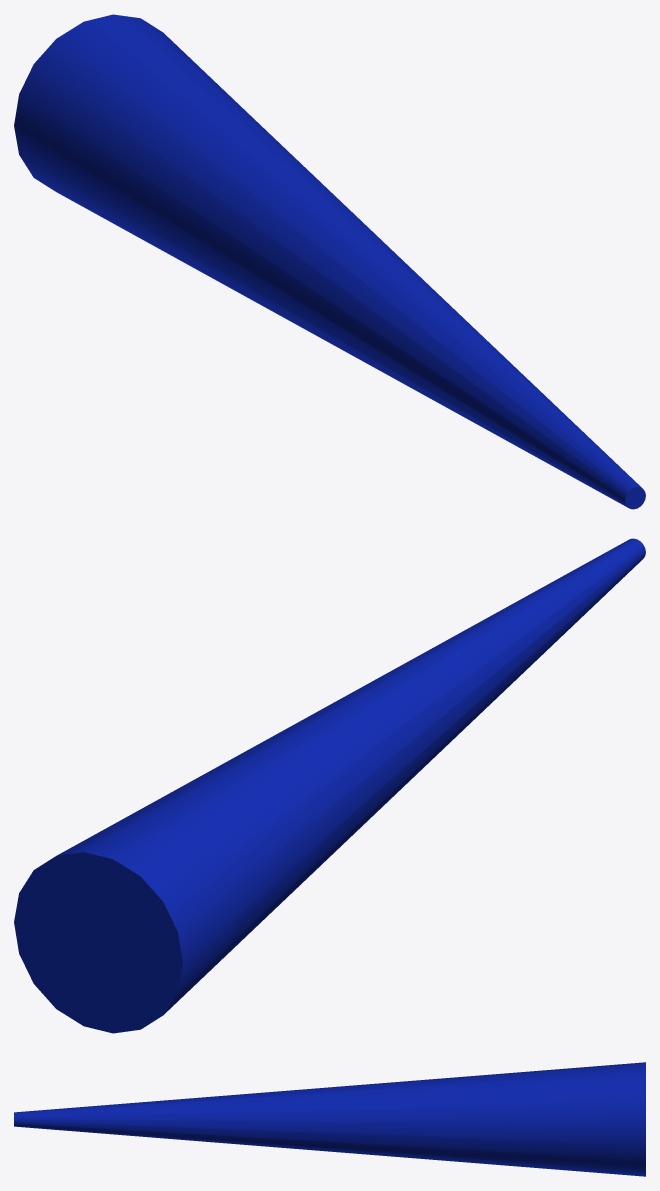
Rendered from TiroA_Mapa01.FBX.
3 renders of one model, top to bottom at view 1: azimuth 30°, elevation 25°; view 2: azimuth 150°, elevation 25°; view 3: azimuth 270°, elevation 25°, orthographic. The views are drawn at different scales.
Parts seen in each view (by area): view 1: TiroA_Mapa01; view 2: TiroA_Mapa01; view 3: TiroA_Mapa01.
Boxes of the visible parts, x1=… form: TiroA_Mapa01: x1=14, y1=14, x2=645, y2=509; TiroA_Mapa01: x1=14, y1=538, x2=645, y2=1033; TiroA_Mapa01: x1=14, y1=1062, x2=645, y2=1176.
Bounding box in the file's own units: 14.99 × 14.76 × 82.48.
